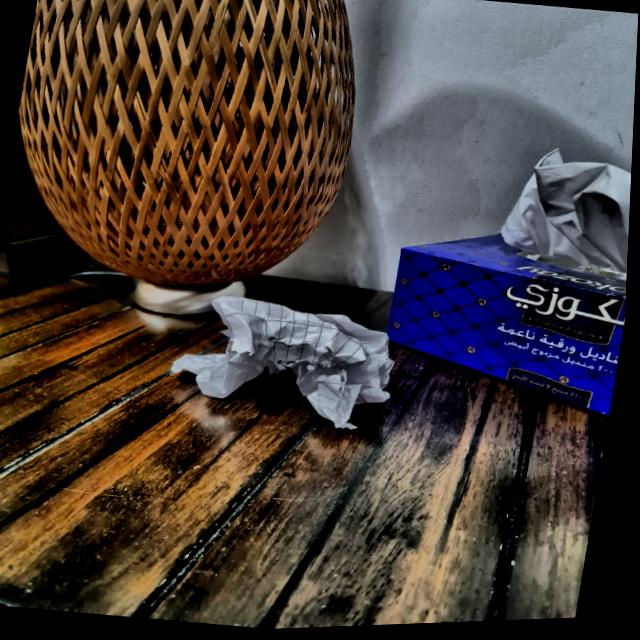Paper: (165, 280, 414, 438)
